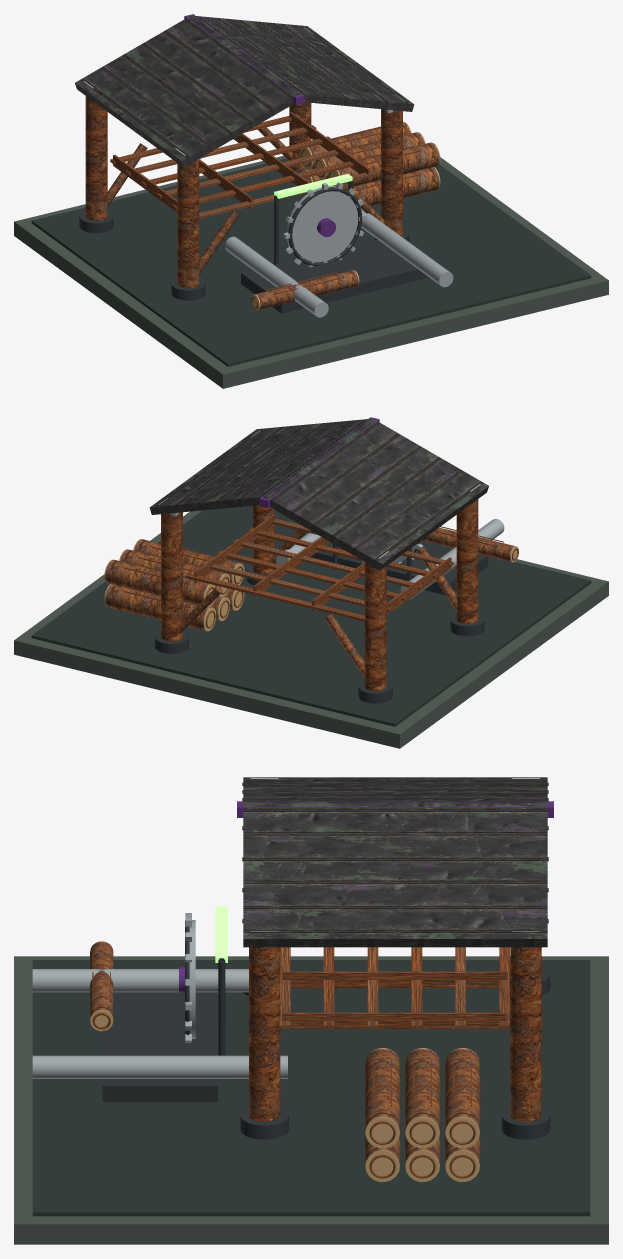
The model's file is timberline_l01.glb.
The picture shows the model from 3 angles, top to bottom: view 1: azimuth 30°, elevation 25°; view 2: azimuth 150°, elevation 25°; view 3: azimuth 270°, elevation 25°; orthographic projection. The views are drawn at different scales.
Parts seen in each view (by area): view 1: timberline_l01, stone_yard_base, saw_carriage, circular_saw_blade, saw_safety_light; view 2: timberline_l01, stone_yard_base, saw_carriage; view 3: timberline_l01, stone_yard_base, saw_carriage, roof_spine, saw_safety_light, circular_saw_blade.
Boxes of the visible parts, x1=… form: timberline_l01: x1=31, y1=15, x2=591, y2=366; stone_yard_base: x1=14, y1=156, x2=608, y2=388; saw_carriage: x1=241, y1=239, x2=429, y2=313; circular_saw_blade: x1=286, y1=185, x2=358, y2=262; saw_safety_light: x1=274, y1=174, x2=352, y2=198; timberline_l01: x1=31, y1=418, x2=591, y2=726; stone_yard_base: x1=14, y1=510, x2=608, y2=748; saw_carriage: x1=310, y1=540, x2=487, y2=595; timberline_l01: x1=32, y1=777, x2=590, y2=1216; stone_yard_base: x1=14, y1=956, x2=608, y2=1244; saw_carriage: x1=102, y1=992, x2=217, y2=1101; roof_spine: x1=237, y1=801, x2=553, y2=817; saw_safety_light: x1=215, y1=906, x2=227, y2=962; circular_saw_blade: x1=189, y1=920, x2=195, y2=1038.
Bounding box in the file's own units: 6.5 × 3.19 × 6.1.
10 materials, 3 textured.
